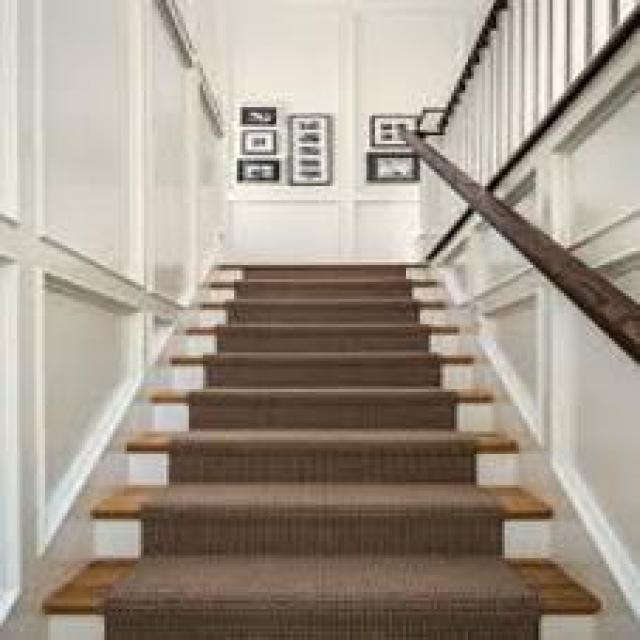upstair: (69, 402, 602, 636)
